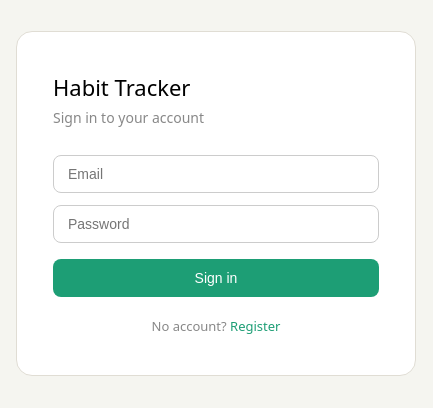
AuthPage › displays error message on failed request
Type "wrong@test.com" into the field with placeholder "Email".
click(216, 174); type("wrong@test.com")  # box left=53, top=154, right=379, bottom=192
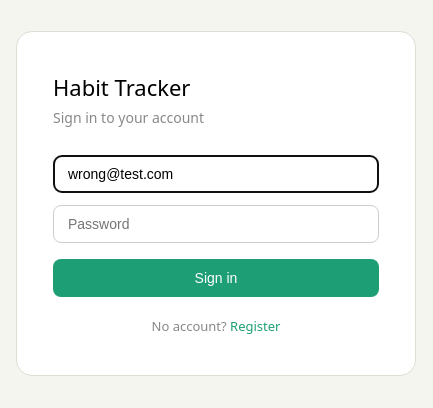
Type "wrongpass" into the password field with placeholder "Password".
click(216, 224); type("wrongpass")  # box left=53, top=204, right=379, bottom=242
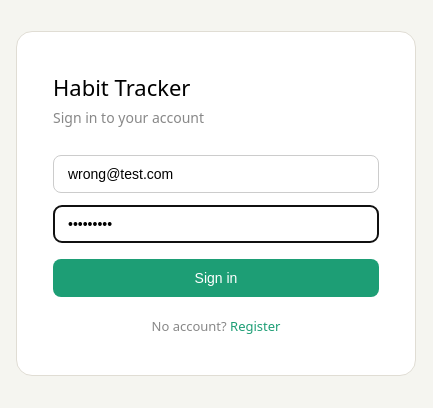
Click the button "Sign in".
click(216, 278)  # box left=53, top=258, right=379, bottom=296
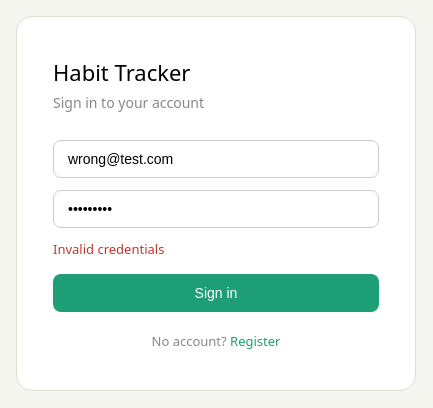
Expected: the text "Invalid credentials" is shown, left=53, top=240, right=164, bottom=258
